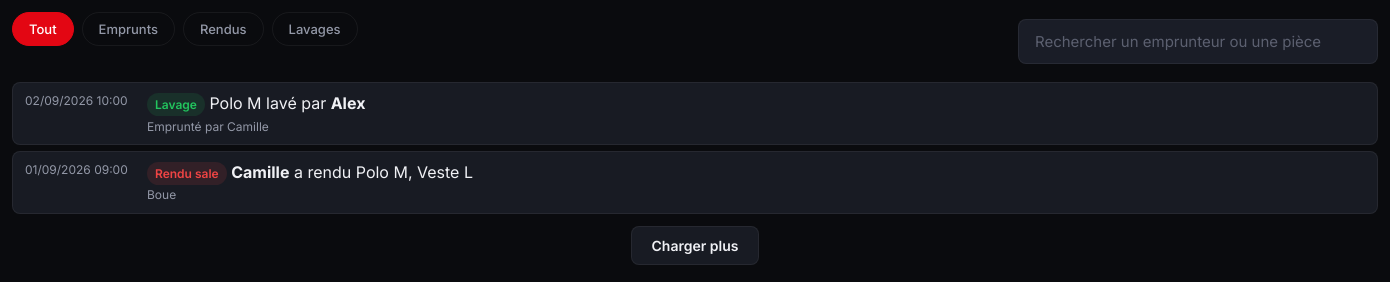
Test: UniformHistory › « Charger plus » ajoute la page suivante sans doublon, puis disparaît
The width and height of the screenshot is (1390, 282).
Expected: the text "Rendu sale" is shown, 147,162 -> 227,185
Expected: the number of list items is 2, 12,82 -> 1378,145; 12,151 -> 1378,214
Step 1. Click the button "Charger plus" → (695, 245), box 630,226 -> 760,265
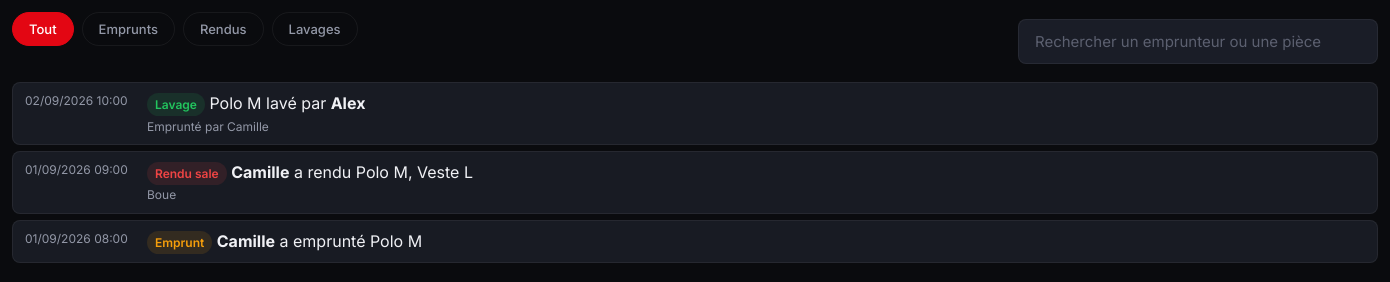
Expected: the number of list items is 3, 12,82 -> 1378,145; 12,151 -> 1378,214; 12,220 -> 1378,263
Expected: the button "Charger plus" is gone
